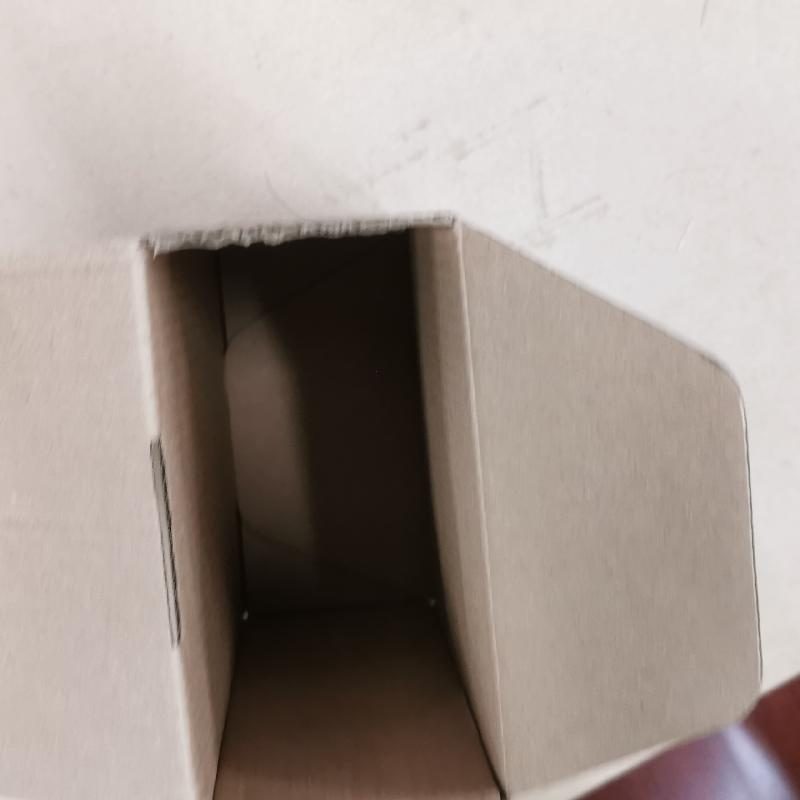boxes: (0, 197, 799, 800)
